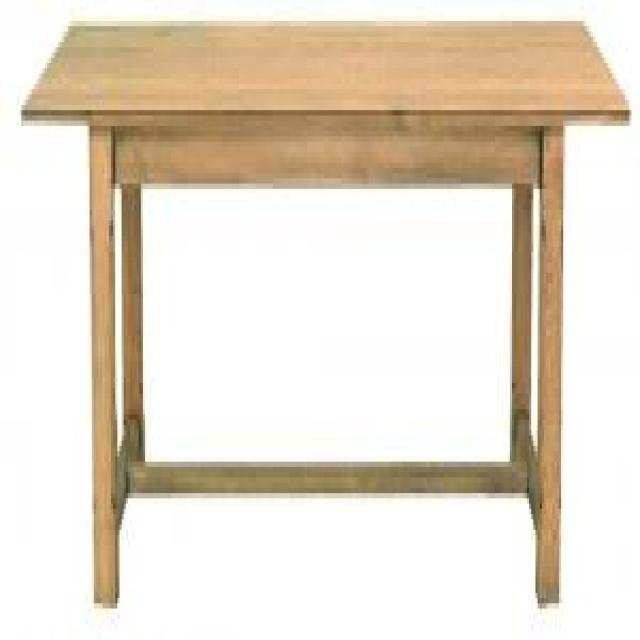table: (23, 21, 630, 606)
